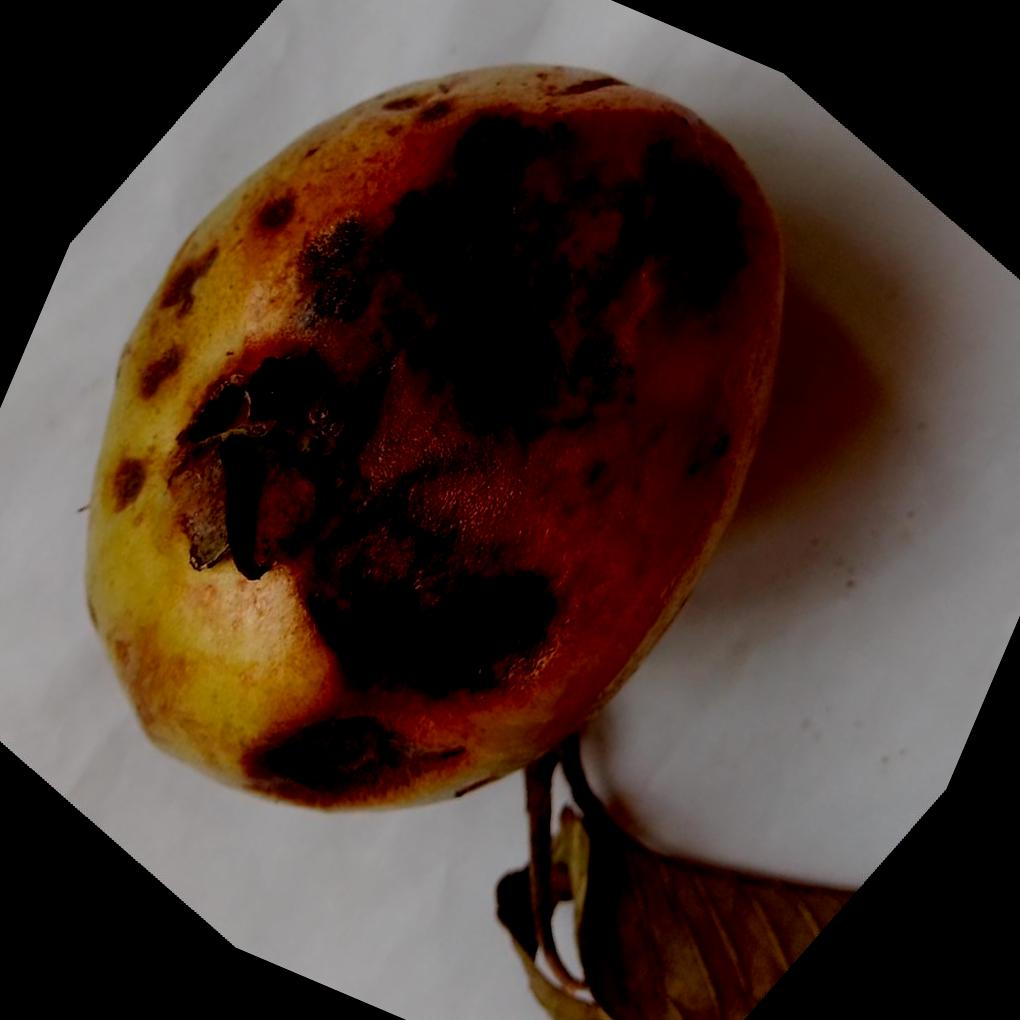FreshOrange: (84, 60, 789, 815)
